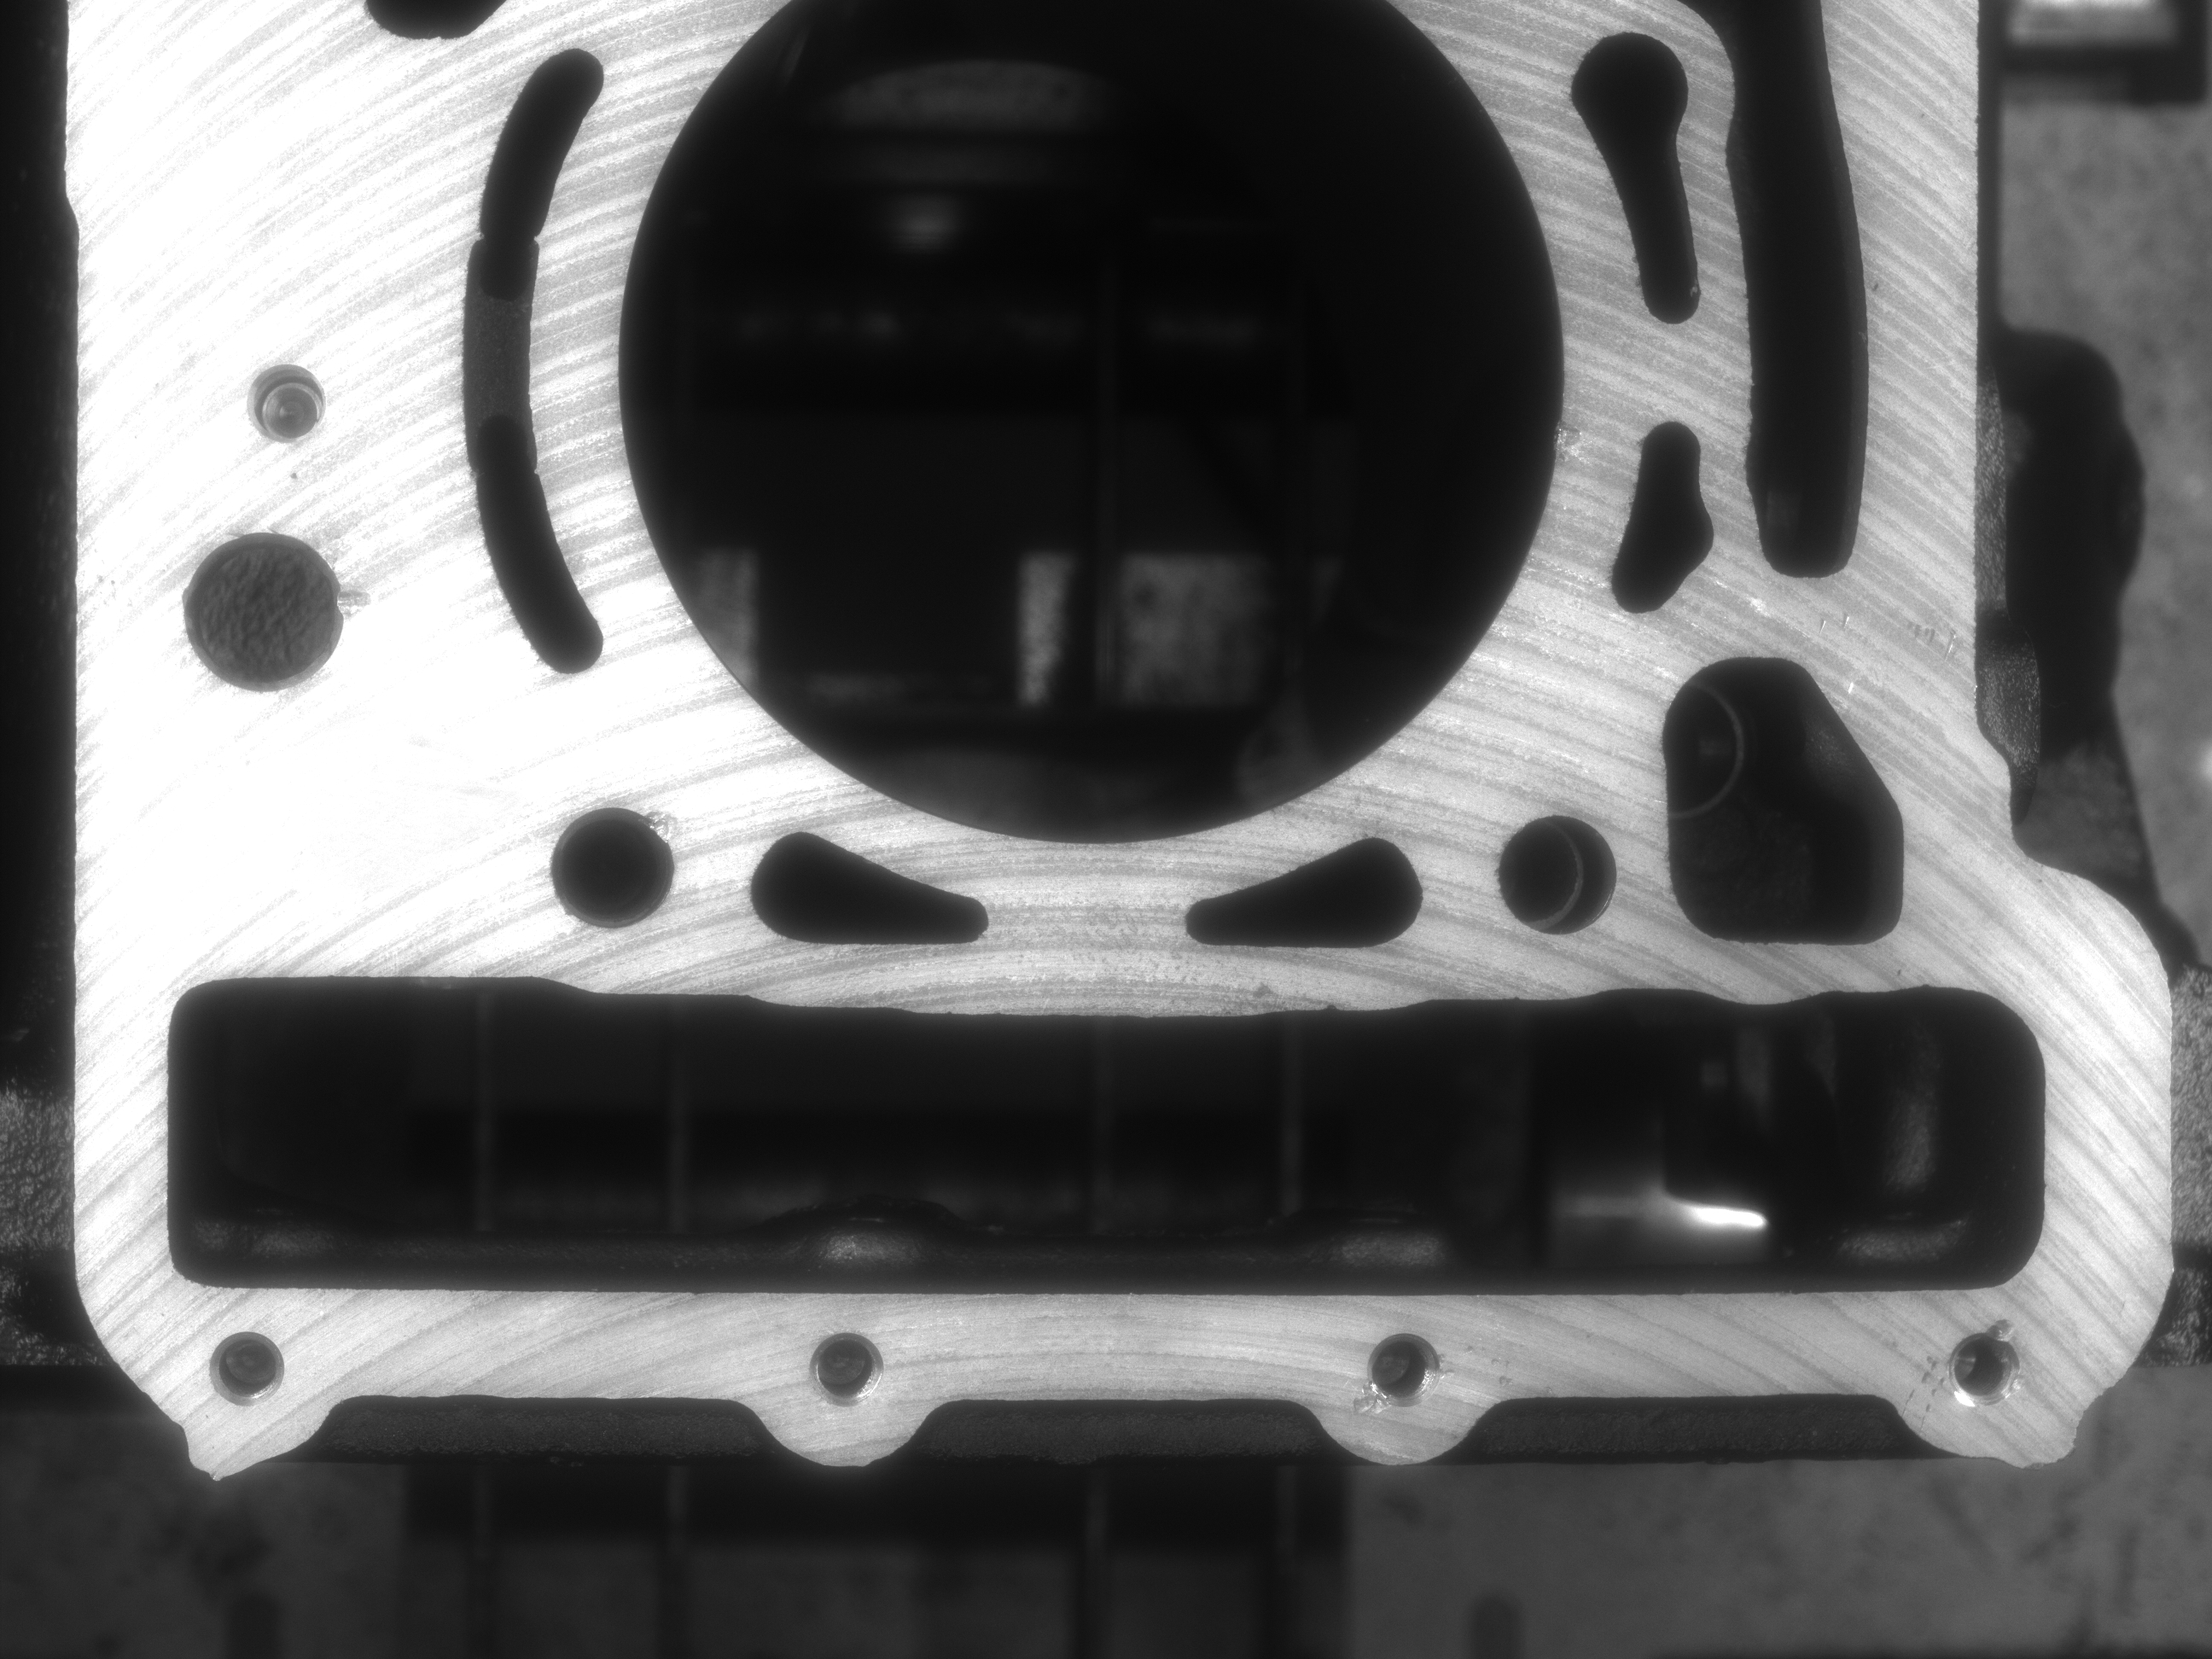shrinkage: (340, 568, 381, 622), (1559, 410, 1601, 460)
